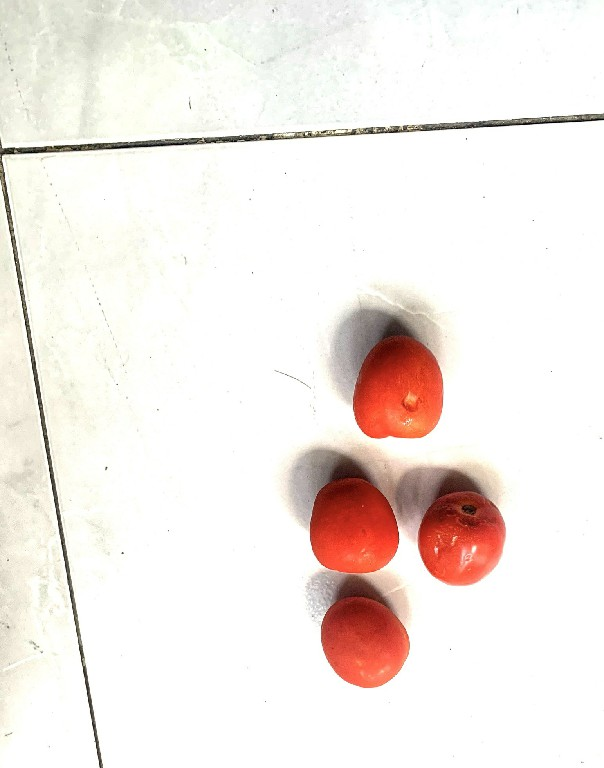NG: (349, 334, 439, 441), (418, 487, 501, 589)
OK: (307, 476, 403, 574), (314, 597, 412, 688)
